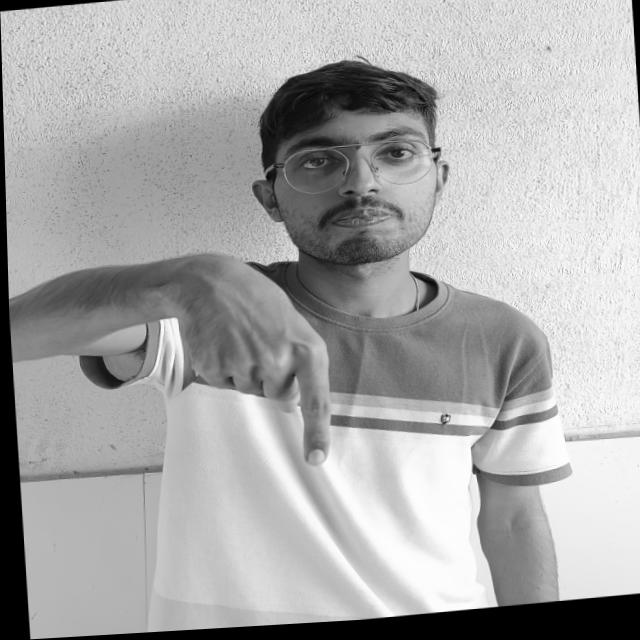Now: (96, 228, 374, 511)
